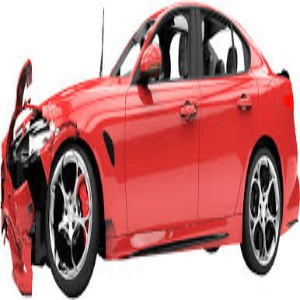door_scratch: (115, 215, 232, 256)
